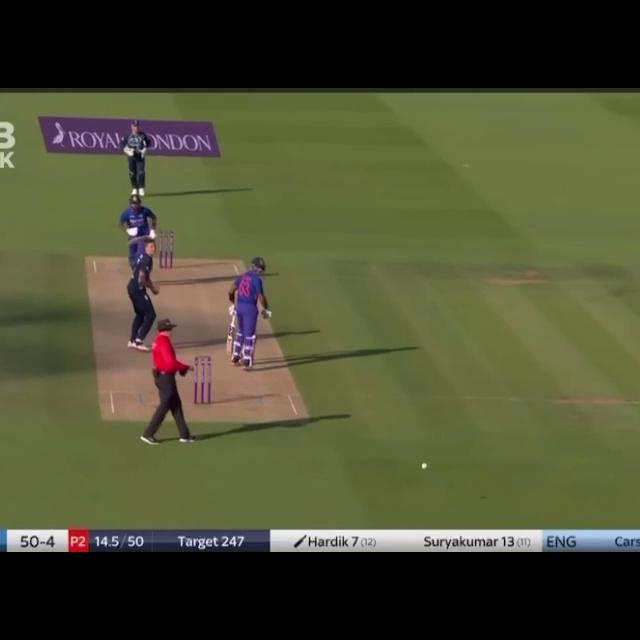umpire: (132, 316, 212, 452)
